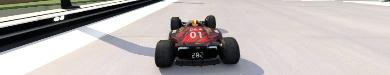Car: (153, 14, 240, 67)
obstacles-Borders: (0, 0, 165, 61)
